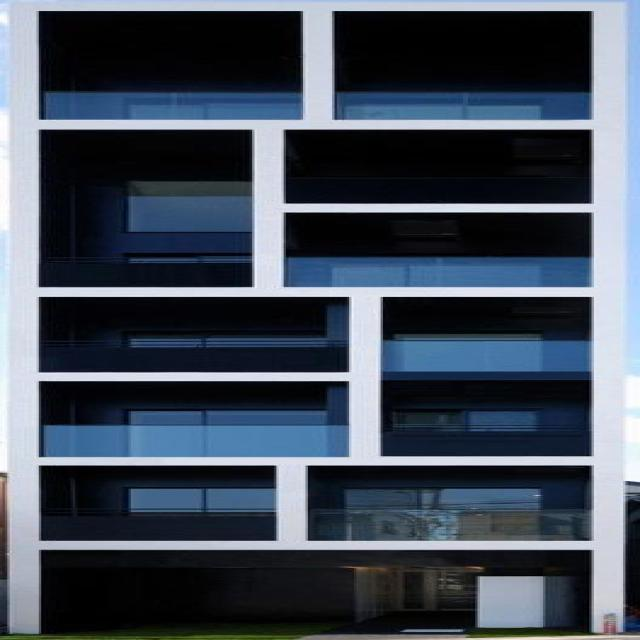door: (393, 566, 570, 629)
railing: (41, 424, 354, 456), (284, 256, 590, 285), (312, 508, 591, 539), (39, 90, 299, 118), (338, 91, 594, 118), (388, 340, 592, 371)
window: (125, 179, 255, 231), (348, 488, 541, 509), (124, 487, 274, 511), (401, 411, 531, 433), (116, 254, 248, 262)
